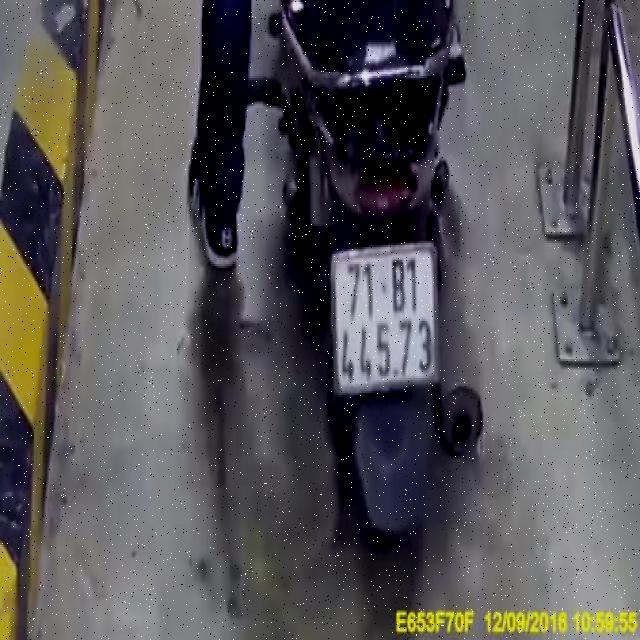1: (362, 260, 378, 318), (408, 253, 420, 316)
3: (420, 318, 433, 378)
4: (356, 326, 374, 388), (340, 327, 356, 390)
5: (377, 320, 392, 380)
7: (398, 320, 416, 374), (346, 260, 361, 315)
B: (389, 254, 408, 314)
